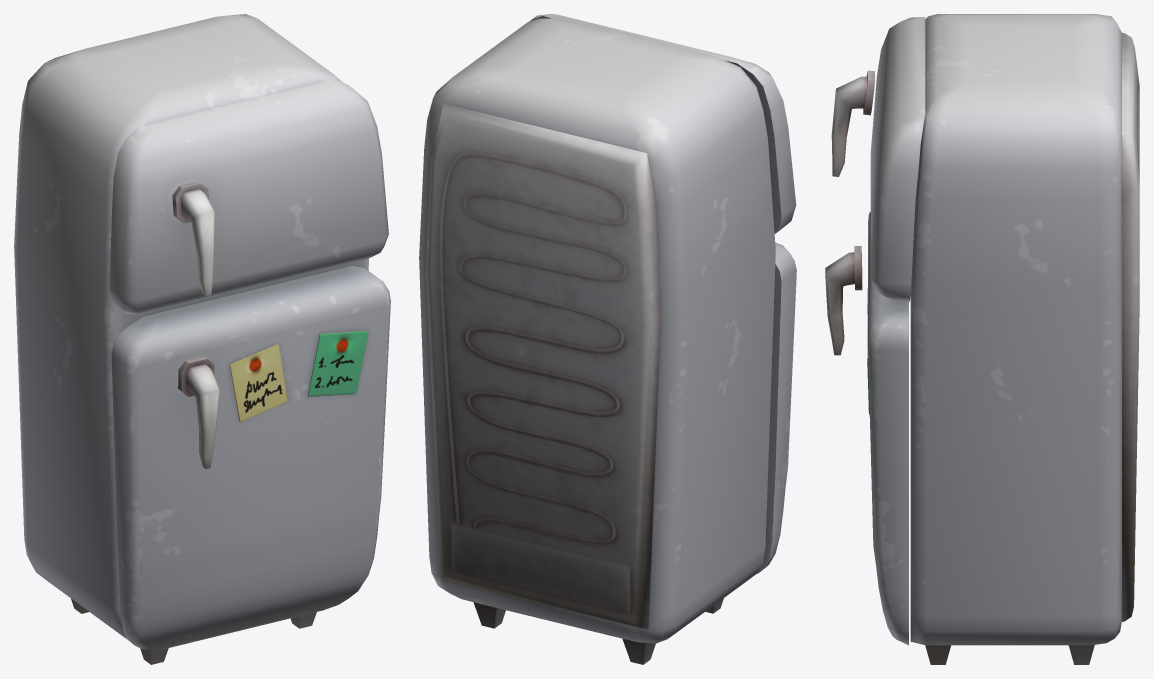
File: Refrigerator01.FBX
3 views of the same model, side by side, from view 1: azimuth 30°, elevation 25°; view 2: azimuth 150°, elevation 25°; view 3: azimuth 270°, elevation 25° (orthographic). The views are drawn at different scales.
Parts seen in each view (by area): view 1: Refrigerator01; view 2: Refrigerator01; view 3: Refrigerator01.
Boxes of the visible parts, bbox=[...] form: Refrigerator01: bbox=[14, 14, 390, 664]; Refrigerator01: bbox=[419, 14, 796, 664]; Refrigerator01: bbox=[825, 14, 1139, 664].
Size of what is drawn, in the model's own units: 0.9958 by 1.99 by 0.9911.
